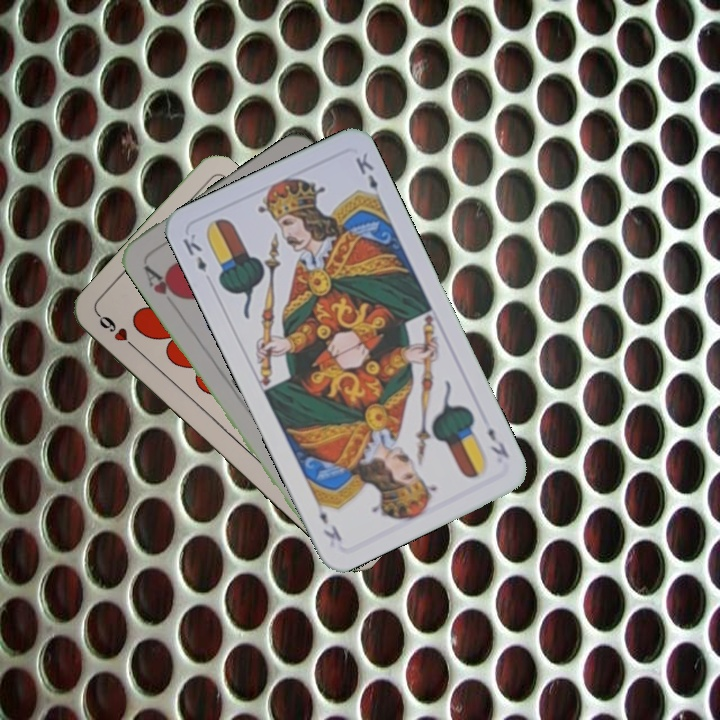EK: (178, 229, 210, 275), (483, 423, 512, 461)
H9: (94, 310, 142, 354)
HA: (140, 260, 185, 302)
